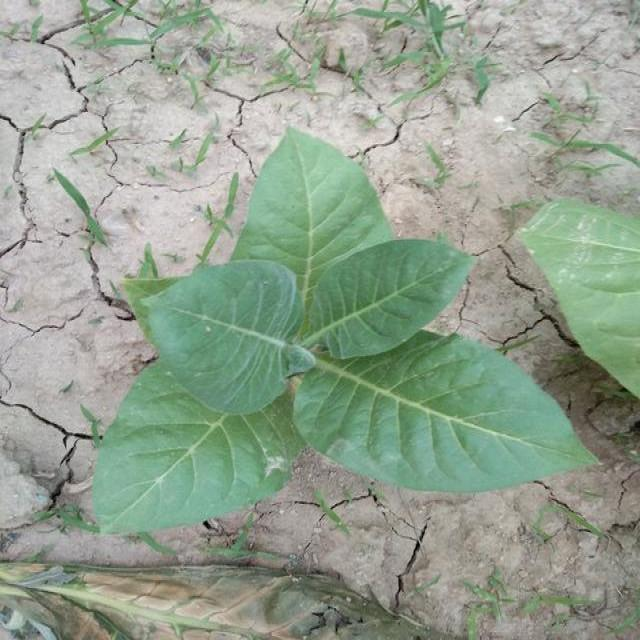crop: (99, 138, 590, 546), (532, 196, 640, 406)
